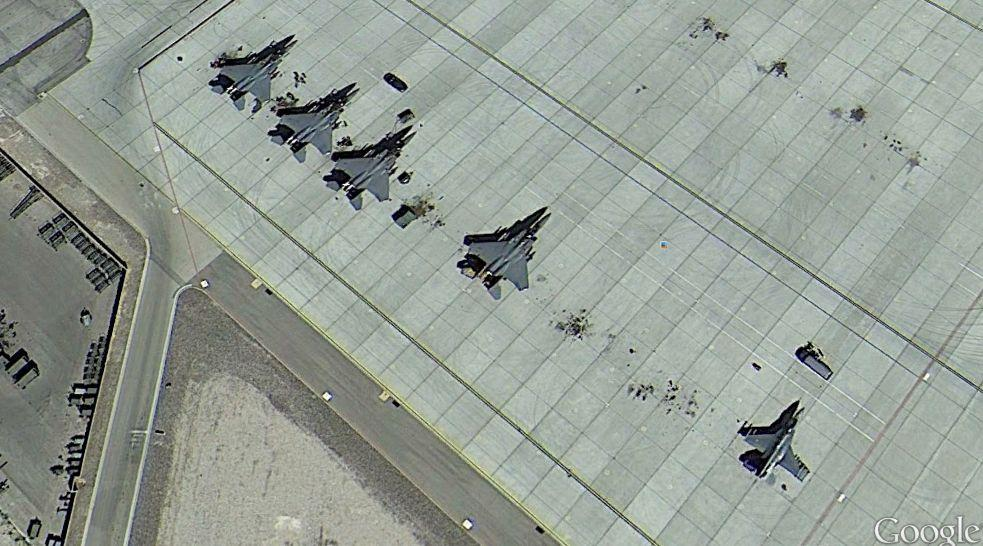F-15: (457, 211, 556, 293), (267, 84, 364, 165), (201, 32, 298, 112), (322, 128, 415, 211)
F-16: (738, 403, 810, 486)
